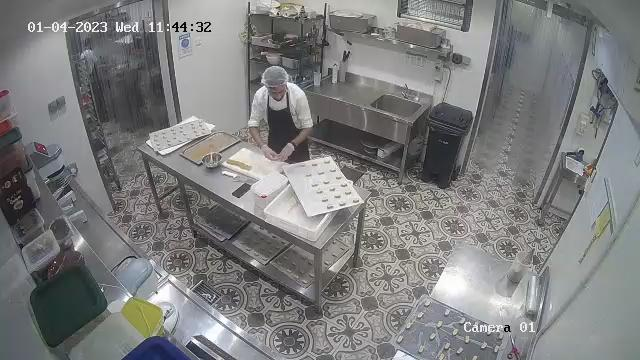apron: (263, 90, 308, 162)
